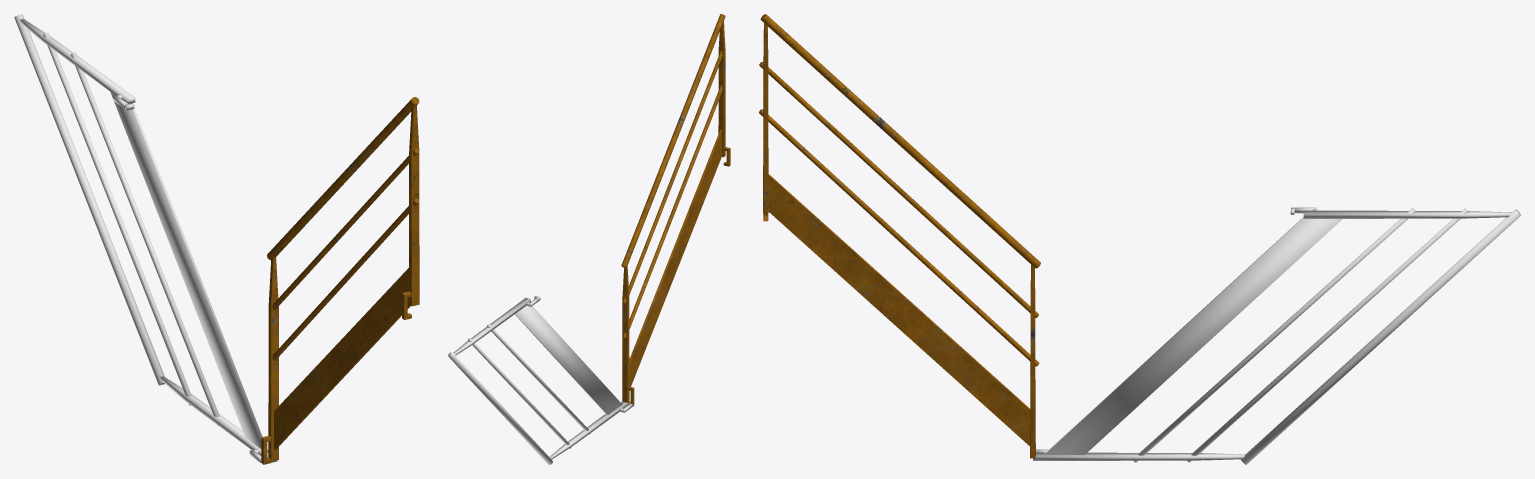
File: SM_Barrier_Stair.fbx
The picture shows the model from 3 angles, left to right: view 1: azimuth 30°, elevation 25°; view 2: azimuth 150°, elevation 25°; view 3: azimuth 270°, elevation 25°; orthographic projection. The views are drawn at different scales.
Parts seen in each view (by area): view 1: SM_Barrier_Stair_ConvexHulls, SM_Barrier_Stair; view 2: SM_Barrier_Stair, SM_Barrier_Stair_ConvexHulls; view 3: SM_Barrier_Stair_ConvexHulls, SM_Barrier_Stair.
Boxes of the visible parts, left/top/right/bottom form: SM_Barrier_Stair_ConvexHulls: left=14, top=14, right=277, bottom=464; SM_Barrier_Stair: left=261, top=97, right=419, bottom=464; SM_Barrier_Stair: left=621, top=14, right=730, bottom=405; SM_Barrier_Stair_ConvexHulls: left=448, top=296, right=633, bottom=464; SM_Barrier_Stair_ConvexHulls: left=1033, top=207, right=1520, bottom=464; SM_Barrier_Stair: left=759, top=14, right=1040, bottom=458.
Size of the model in its own units: 0.0822 by 2.43 by 3.72.
